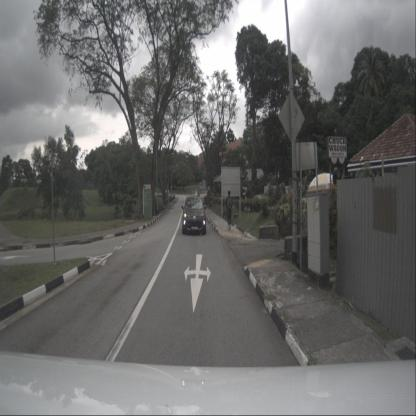human-pedestrian-adult: (225, 190, 233, 231)
vehicle-car: (182, 197, 206, 236)
